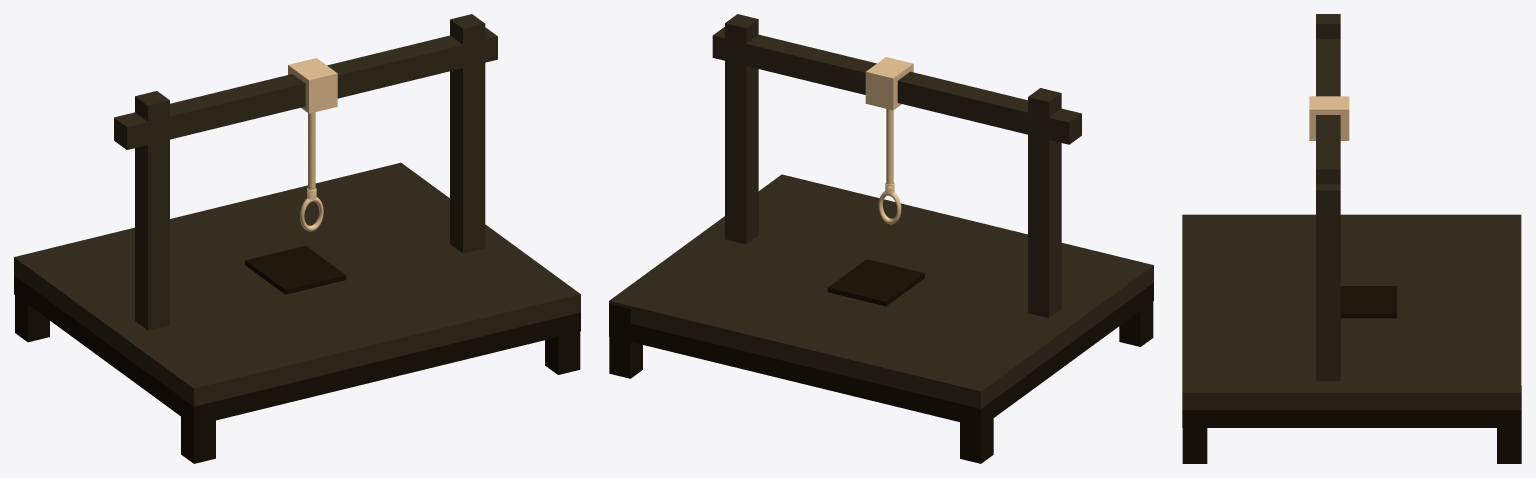
The model's file is gallows.FBX.
3 renders of one model, left to right at view 1: azimuth 30°, elevation 25°; view 2: azimuth 150°, elevation 25°; view 3: azimuth 270°, elevation 25°, orthographic. The views are drawn at different scales.
Visible parts, largest first — view 1: Box001, Box008, Box006, Box007, Box010, Box009, Box002, Box003, Box005, Cylinder001; view 2: Box001, Box008, Box007, Box006, Box010, Box004, Box009, Box005, Box002, Cylinder001; view 3: Box001, Box006, Box008, Box010, Box009, Box004, Box003, Box007.
Part boxes in pixels (bbox=[...]): Box001: bbox=[14, 162, 580, 425]; Box008: bbox=[114, 27, 497, 149]; Box006: bbox=[450, 14, 485, 253]; Box007: bbox=[135, 91, 169, 330]; Box010: bbox=[245, 245, 346, 294]; Box009: bbox=[288, 58, 337, 113]; Box002: bbox=[181, 417, 215, 463]; Box003: bbox=[545, 331, 580, 374]; Box005: bbox=[15, 295, 49, 342]; Cylinder001: bbox=[308, 112, 315, 190]; Box001: bbox=[609, 174, 1153, 427]; Box008: bbox=[712, 27, 1081, 144]; Box007: bbox=[1028, 88, 1061, 318]; Box006: bbox=[725, 14, 758, 244]; Box010: bbox=[827, 259, 924, 306]; Box004: bbox=[609, 303, 642, 378]; Box009: bbox=[865, 57, 913, 110]; Box005: bbox=[960, 418, 993, 463]; Box002: bbox=[1119, 301, 1153, 346]; Cylinder001: bbox=[886, 109, 893, 184]; Box001: bbox=[1182, 214, 1521, 427]; Box006: bbox=[1316, 159, 1340, 381]; Box008: bbox=[1316, 39, 1340, 211]; Box010: bbox=[1340, 286, 1396, 318]; Box009: bbox=[1309, 96, 1349, 140]; Box004: bbox=[1497, 385, 1521, 463]; Box003: bbox=[1182, 428, 1207, 463]; Box007: bbox=[1316, 14, 1340, 39].
Bounding box in the file's own units: 28.16 × 20.89 × 22.66.
